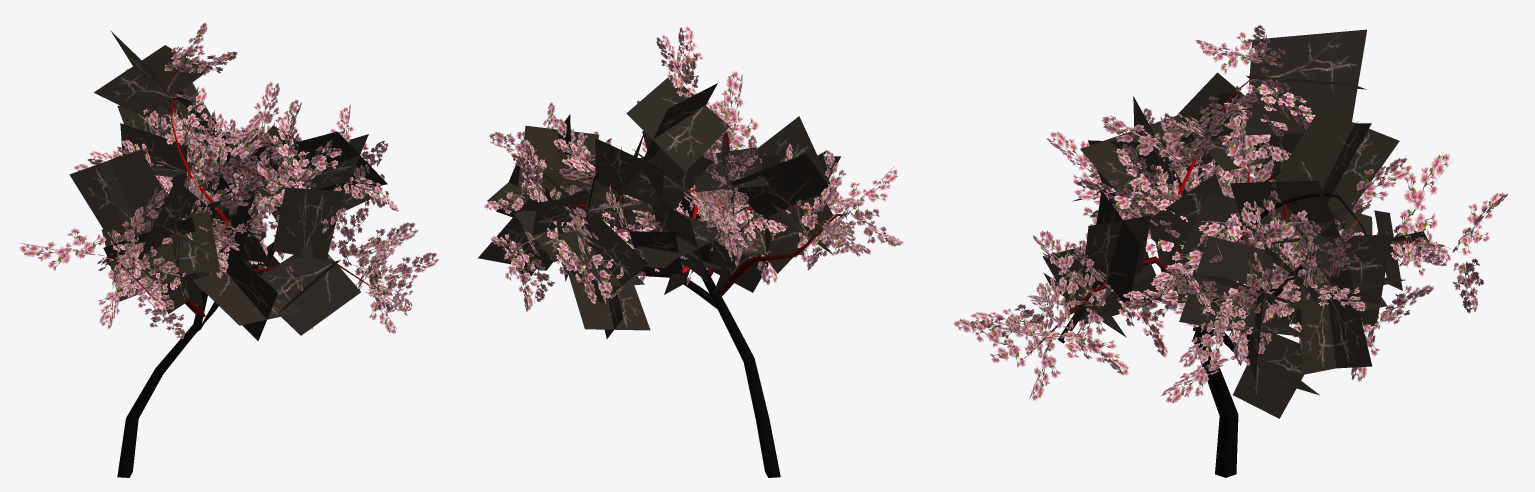
The model's file is sakura2 lod0.FBX.
The picture shows the model from 3 angles, left to right: view 1: azimuth 30°, elevation 25°; view 2: azimuth 150°, elevation 25°; view 3: azimuth 270°, elevation 25°; orthographic projection. The views are drawn at different scales.
Parts seen in each view (by area): view 1: sakura2; view 2: sakura2; view 3: sakura2.
Boxes of the visible parts, left/top/right/bottom form: sakura2: left=19, top=22, right=438, bottom=477; sakura2: left=478, top=26, right=904, bottom=477; sakura2: left=953, top=25, right=1508, bottom=477.
Bounding box in the file's own units: 72574 × 79155 × 80611.
